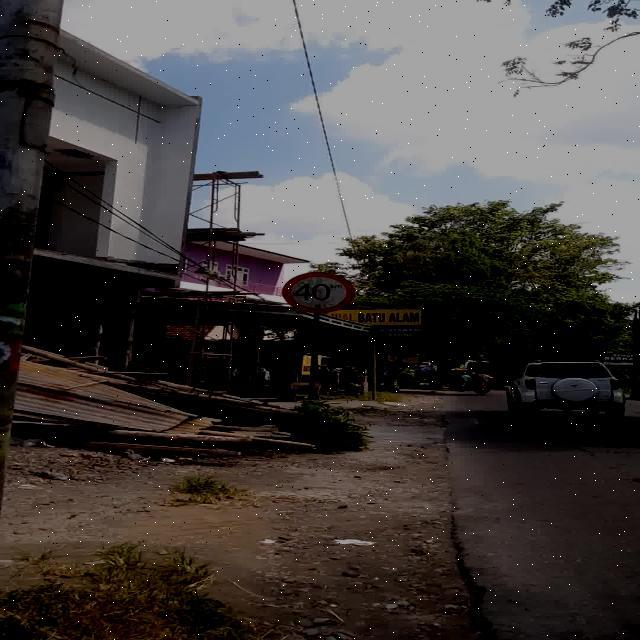Kecepatan Maks. 40 km: (282, 272, 355, 313)
